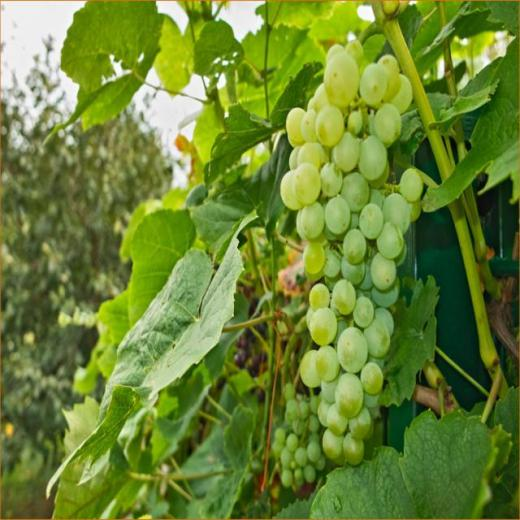Orange: (279, 44, 426, 467), (274, 380, 326, 488)
